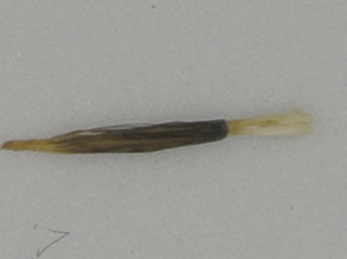เมล้ดปลายพู่กัน: (1, 106, 317, 155)
